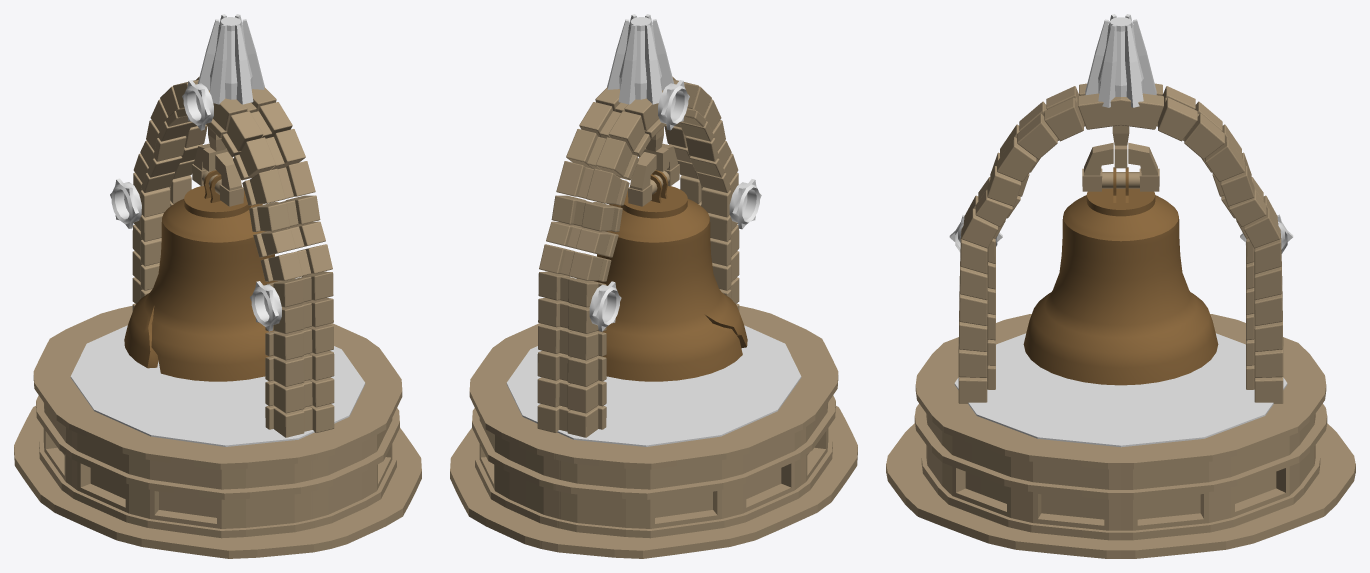
File: OBJ_BellOfFirstLight.fbx
The picture shows the model from 3 angles, left to right: view 1: azimuth 30°, elevation 25°; view 2: azimuth 150°, elevation 25°; view 3: azimuth 270°, elevation 25°; orthographic projection. The views are drawn at different scales.
Parts seen in each view (by area): view 1: Cube.001, SM_BoFL_BricksTrim.001, SM_Bell, Cylinder, Cube.003, Cube.002, Cylinder.003, Cylinder.007, Cylinder.004, Cylinder.008, Cube; view 2: Cube.001, SM_BoFL_BricksTrim.001, SM_Bell, Cylinder, Cube.003, Cube.002, Cylinder.003, Cylinder.008, Cylinder.007, Cylinder.004, Cube; view 3: Cube.001, SM_BoFL_BricksTrim.001, SM_Bell, Cylinder, Cube.003, Cube.002, Cylinder.003, Cube, Cylinder.005.
Part boxes in pixels (bbox=[...]): Cube.001: bbox=[14, 305, 421, 558]; SM_BoFL_BricksTrim.001: bbox=[132, 76, 334, 437]; SM_Bell: bbox=[124, 186, 277, 381]; Cylinder: bbox=[70, 325, 365, 446]; Cube.003: bbox=[198, 14, 264, 104]; Cube.002: bbox=[192, 143, 243, 206]; Cylinder.003: bbox=[210, 17, 252, 99]; Cylinder.007: bbox=[250, 281, 281, 331]; Cylinder.004: bbox=[182, 80, 213, 130]; Cylinder.008: bbox=[110, 178, 141, 228]; Cube: bbox=[203, 127, 232, 171]; Cube.001: bbox=[450, 305, 857, 558]; SM_BoFL_BricksTrim.001: bbox=[537, 76, 739, 437]; SM_Bell: bbox=[594, 186, 747, 381]; Cylinder: bbox=[506, 325, 801, 446]; Cube.003: bbox=[607, 14, 673, 104]; Cube.002: bbox=[628, 143, 679, 206]; Cylinder.003: bbox=[619, 17, 661, 99]; Cylinder.008: bbox=[589, 281, 621, 331]; Cylinder.007: bbox=[729, 179, 761, 229]; Cylinder.004: bbox=[658, 80, 689, 130]; Cube: bbox=[639, 127, 668, 171]; Cube.001: bbox=[886, 314, 1355, 558]; SM_BoFL_BricksTrim.001: bbox=[958, 83, 1283, 403]; SM_Bell: bbox=[1023, 188, 1218, 385]; Cylinder: bbox=[954, 333, 1287, 447]; Cube.003: bbox=[1085, 14, 1156, 107]; Cube.002: bbox=[1082, 142, 1159, 191]; Cylinder.003: bbox=[1098, 17, 1143, 96]; Cube: bbox=[1112, 110, 1129, 168]; Cylinder.005: bbox=[1102, 172, 1139, 188].
Bounding box in the file's own units: 699 × 867 × 804.
